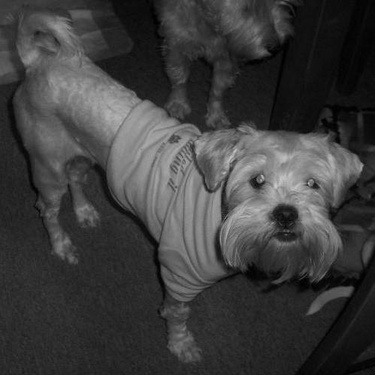dog: (7, 6, 362, 367)
